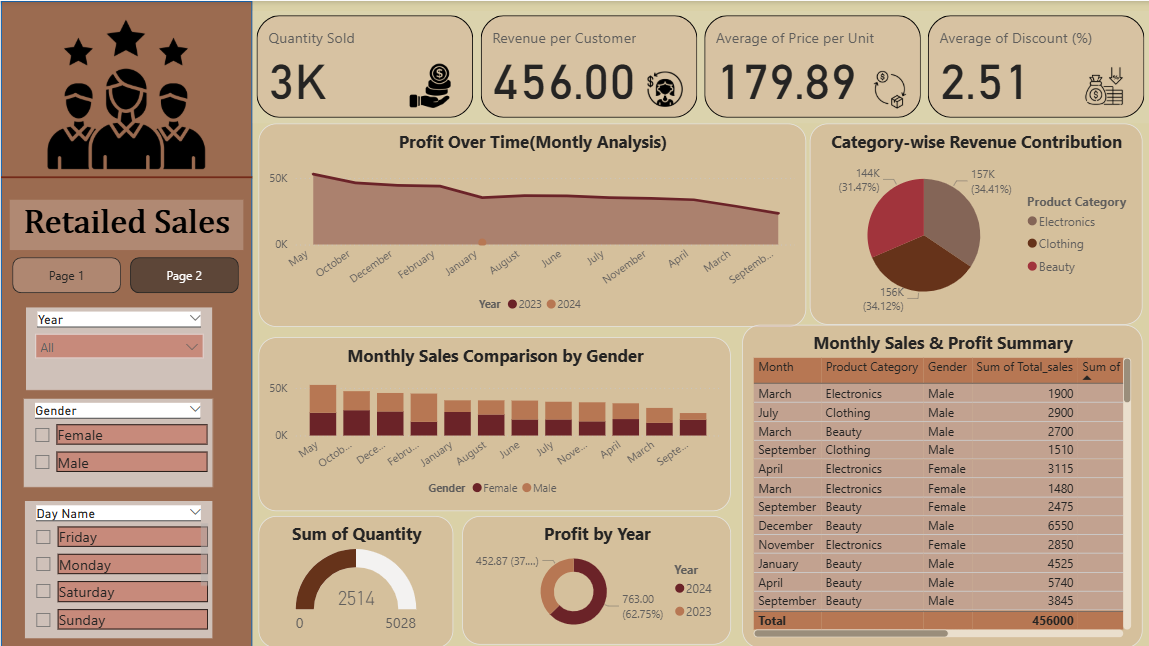

The dashboard page shown, as its layout file describes it:
{"tool":"powerbi","page":{"name":"Page 2","canvas":[1280,720],"ordinal":1},"visuals":[{"type":"shape","box":[0,0,279.7,719.3],"z":0},{"type":"image","box":[25.7,11.4,228.6,185.7],"z":1000},{"type":"shape","box":[0,173.9,279.7,44.5],"z":2000},{"type":"cardVisual","fields":{"Data":["retail_sales_dataset.Quantity Sold","retail_sales_dataset.Revenue per Customer","Avg(retail_sales_dataset.Price per Unit)","Avg(retail_sales_dataset.Avg Discount (%))"]},"box":[279.7,11,1000.3,124.9],"z":3000},{"type":"slicer","fields":{"Values":["retail_sales_dataset.Day Name"]},"box":[26.4,556.5,208.7,153],"z":4000},{"type":"slicer","fields":{"Values":["retail_sales_dataset.Gender"]},"box":[25,442.4,210.1,98.8],"z":5000},{"type":"columnChart","title":"Monthly Sales Comparison by Gender","fields":{"Category":["retail_sales_dataset.Month"],"Y":["Sum(retail_sales_dataset.Total_sales)"],"Series":["retail_sales_dataset.Gender"]},"box":[286.6,374.3,525.9,193.4],"z":6000},{"type":"areaChart","title":"Profit Over Time(Montly Analysis)","fields":{"Category":["retail_sales_dataset.Month"],"Y":["Sum(retail_sales_dataset.Profit)"],"Series":["retail_sales_dataset.Year"]},"box":[286.1,137,610.2,222.6],"z":7000},{"type":"tableEx","title":"Monthly Sales & Profit Summary","fields":{"Values":["retail_sales_dataset.Month","retail_sales_dataset.Product Category","retail_sales_dataset.Gender","Sum(retail_sales_dataset.Total_sales)","Sum(retail_sales_dataset.Profit_Margin (%))","Sum(retail_sales_dataset.Quantity)","Avg(retail_sales_dataset.Discount (%))"]},"box":[825,360.3,445.2,360.3],"z":8000},{"type":"pieChart","title":"Category-wise Revenue Contribution","fields":{"Category":["retail_sales_dataset.Product Category"],"Y":["Sum(retail_sales_dataset.Total_sales)"]},"box":[900.2,136.3,370.1,224],"z":9000},{"type":"donutChart","title":"Profit by Year","fields":{"Category":["retail_sales_dataset.Year"],"Y":["Avg(retail_sales_dataset.Profit)"]},"box":[513.4,573.2,299.1,143.3],"z":10000},{"type":"gauge","fields":{"Y":["Sum(retail_sales_dataset.Quantity)"]},"box":[286.6,573.2,217,147.5],"z":11000},{"type":"slicer","fields":{"Values":["retail_sales_dataset.Year"]},"box":[27.8,340.9,207.3,91.8],"z":12000},{"type":"image","box":[442.4,64,71,61.2],"z":13000},{"type":"image","box":[706.8,73.7,64,48.7],"z":14000},{"type":"image","box":[961.4,72.3,55.7,52.9],"z":15000},{"type":"image","box":[1185.4,68.2,84.9,52.9],"z":16000},{"type":"textbox","box":[9.7,221.2,260.2,55.7],"z":17000},{"type":"pageNavigator","box":[12.5,285.2,253.2,40.3],"z":18000}]}

Visuals, with their boxes in screenshot pixels (x1, y1, x2, y2), scaled from the page's 1280x720 canvas onto the 1149x646 screenshot:
shape: (0, 0, 251, 645)
image: (23, 10, 228, 177)
shape: (0, 156, 251, 196)
cardVisual - retail_sales_dataset.Quantity Sold x retail_sales_dataset.Revenue per Customer: (251, 10, 1148, 122)
slicer - retail_sales_dataset.Day Name: (24, 499, 211, 637)
slicer - retail_sales_dataset.Gender: (22, 397, 211, 486)
"Monthly Sales Comparison by Gender" columnChart: (257, 336, 729, 509)
"Profit Over Time(Montly Analysis)" areaChart: (257, 123, 805, 323)
"Monthly Sales & Profit Summary" tableEx: (741, 323, 1140, 645)
"Category-wise Revenue Contribution" pieChart: (808, 122, 1140, 323)
"Profit by Year" donutChart: (461, 514, 729, 643)
gauge - Sum(retail_sales_dataset.Quantity): (257, 514, 452, 645)
slicer - retail_sales_dataset.Year: (25, 306, 211, 388)
image: (397, 57, 461, 112)
image: (634, 66, 692, 110)
image: (863, 65, 913, 112)
image: (1064, 61, 1140, 109)
textbox: (9, 198, 242, 248)
pageNavigator: (11, 256, 239, 292)
